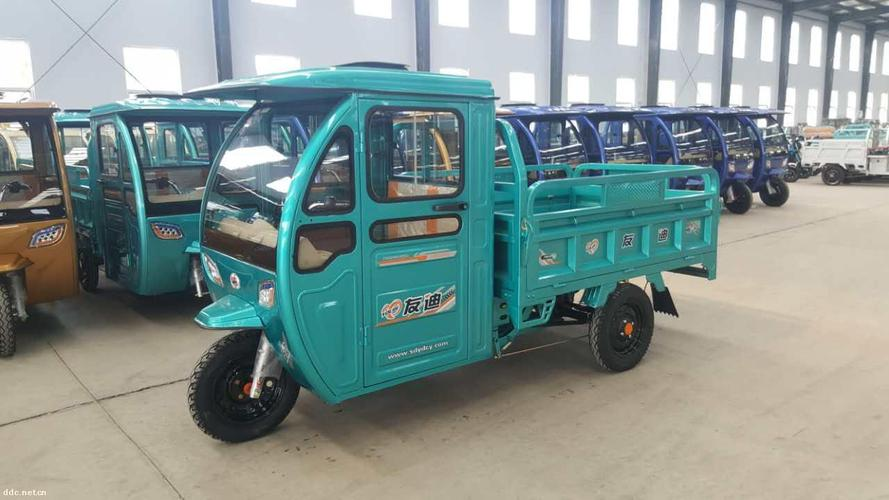empty: (175, 65, 728, 443)
